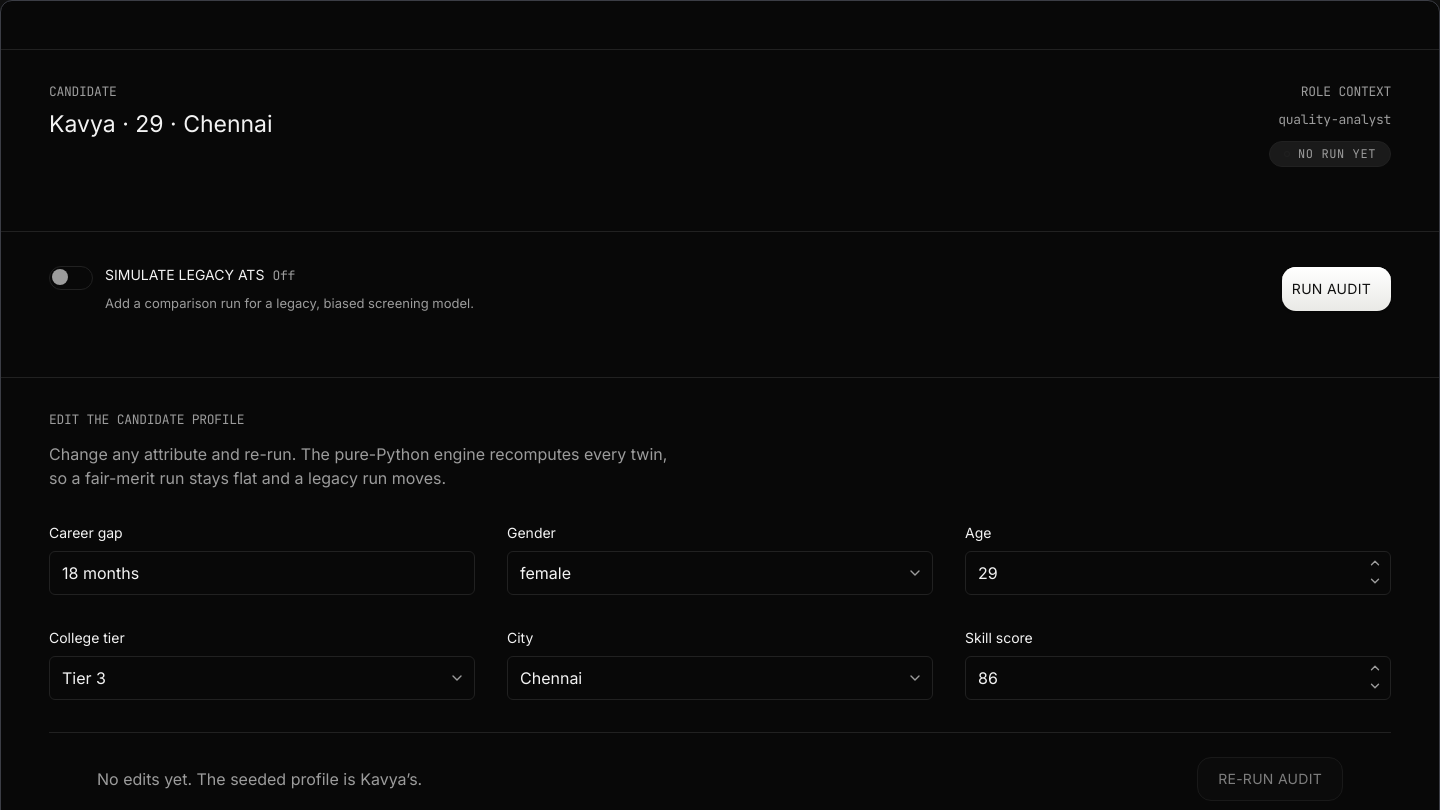
Test case: GhostTwinPanel › re-runs with the current values and repaints the table from the new response
Click the button "Run Audit" at {"x": 1336, "y": 288}, box [1282,266,1391,310]
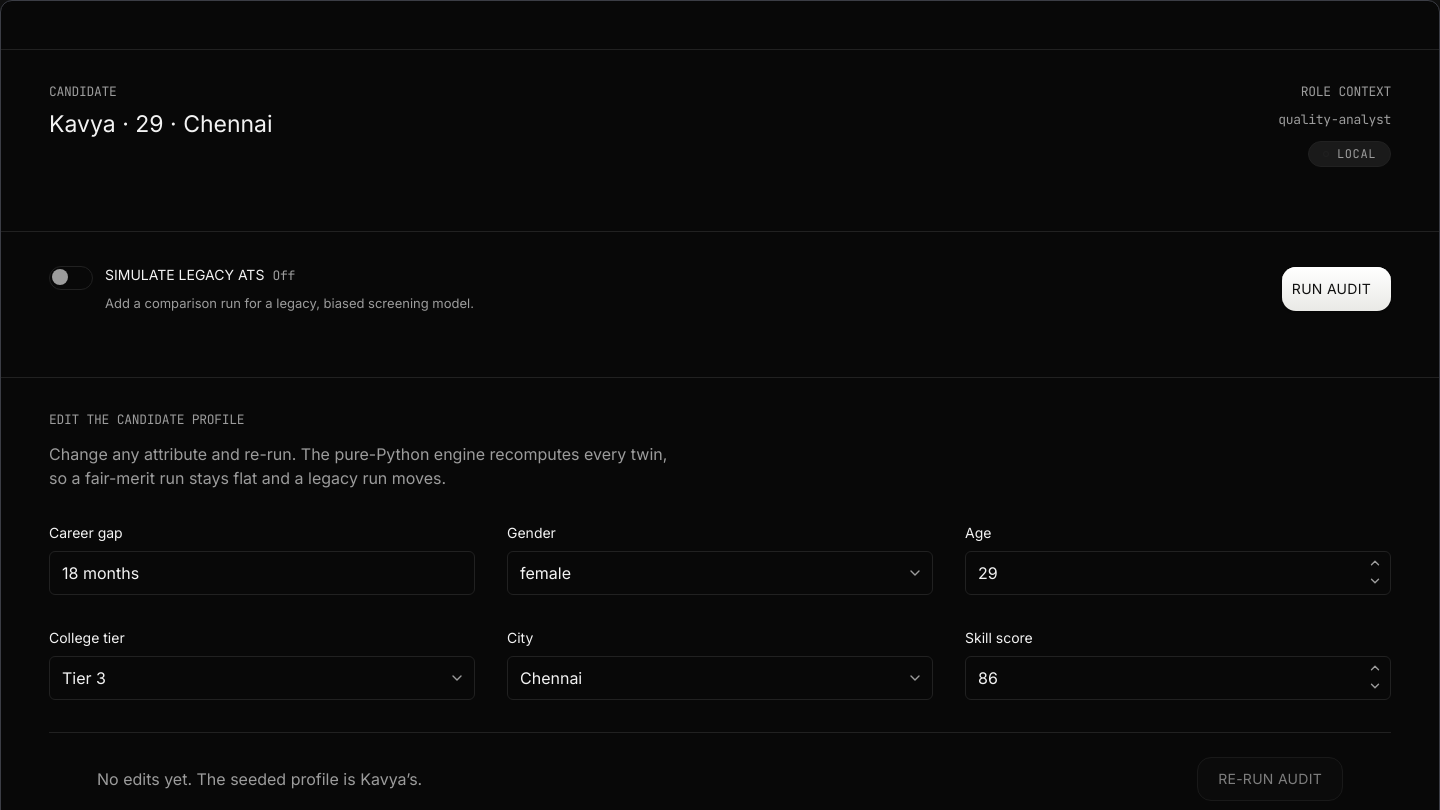
Expected: the text with test id "edit-summary" shows "No edits yet", [97,768,422,788]
Select "Bengaluru" in the dropdown labelled "City" at {"x": 720, "y": 678}, box [507,656,933,700]
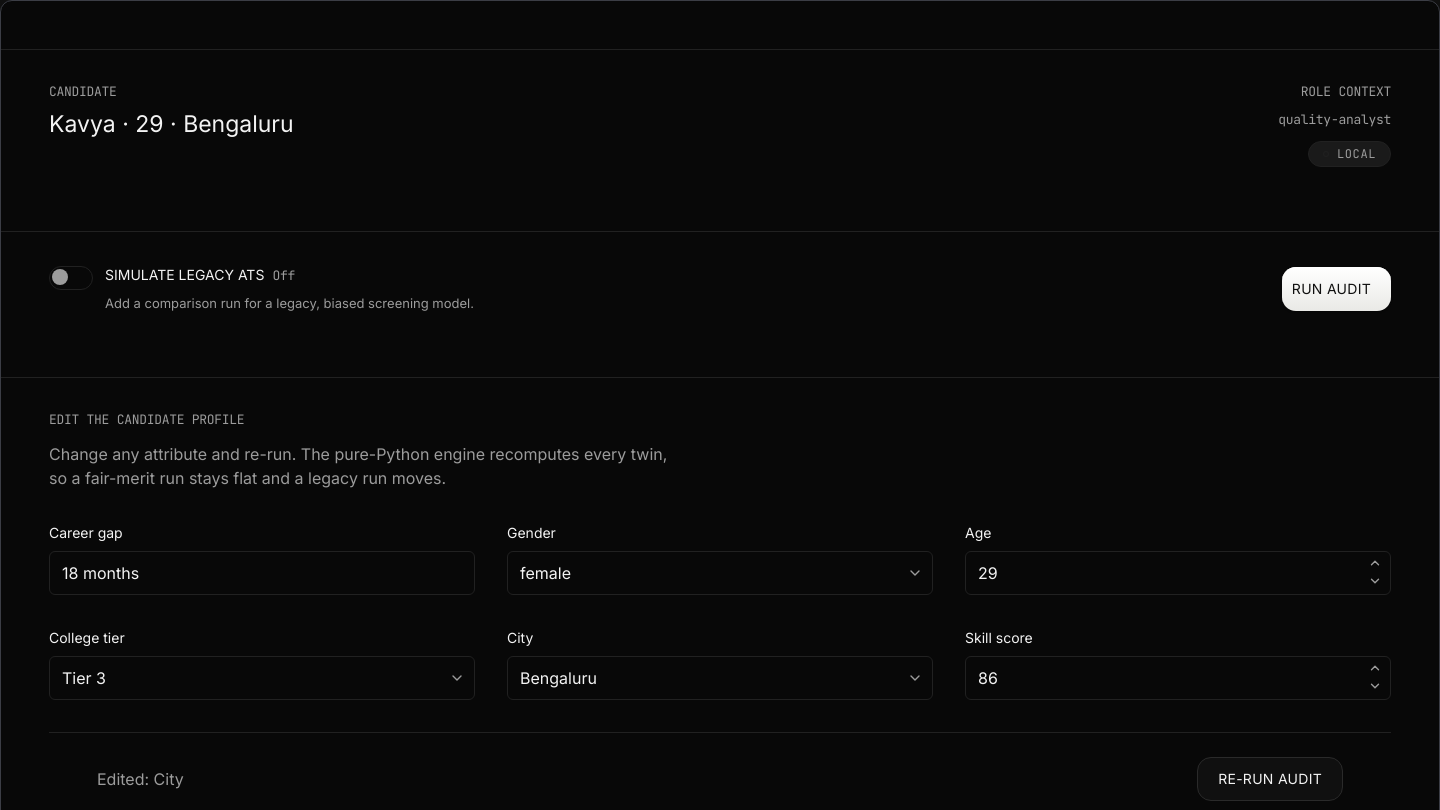
Click the button "Re-run audit" at {"x": 1270, "y": 778}, box [1197,756,1343,800]
(page scrolled)
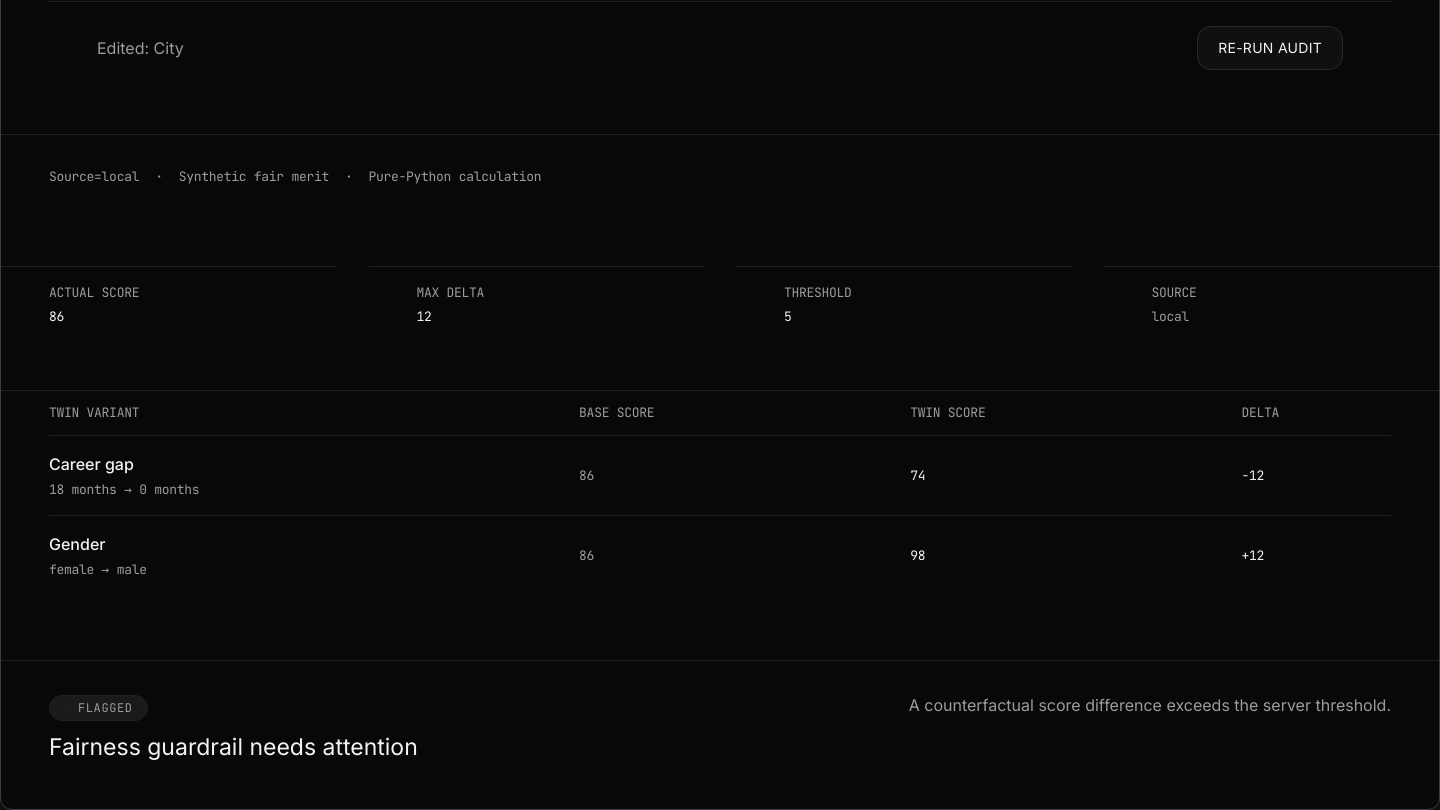
Expected: the cell "86" in the row of "18 months" is shown, [579,466,594,484]
Expected: the text "FLAGGED" is shown, [49,694,148,720]
Expected: the cell "74" is shown, [894,436,1225,516]
